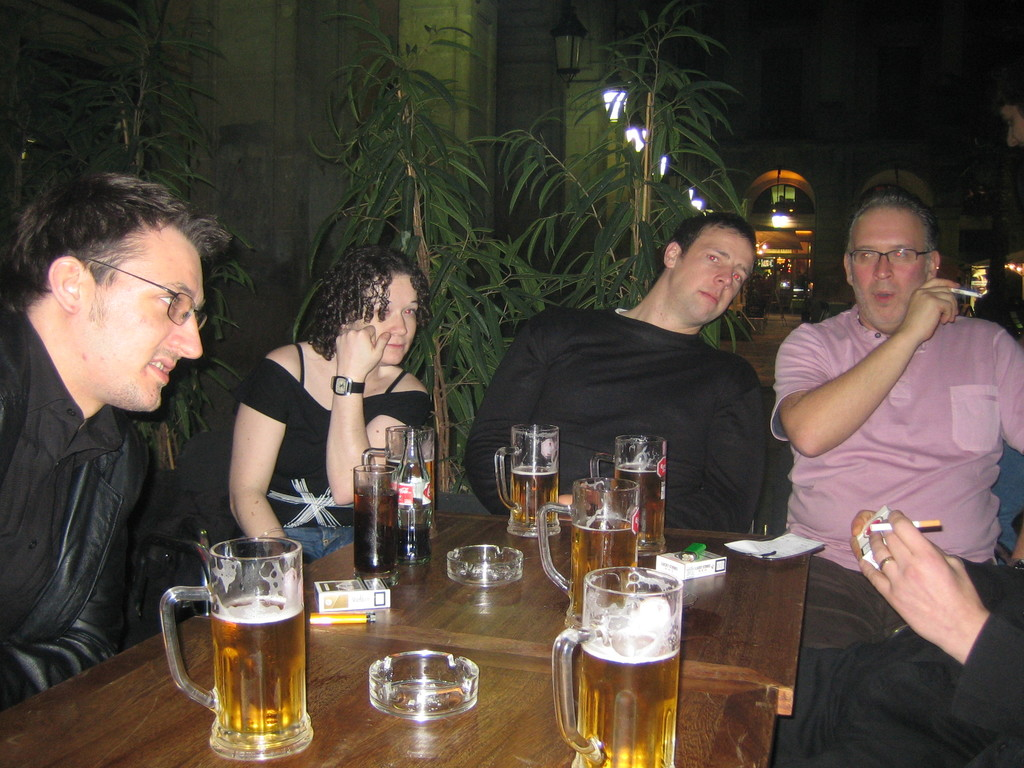Beer: (207, 595, 302, 753), (569, 633, 672, 767), (569, 514, 640, 628), (615, 462, 662, 555), (387, 460, 435, 538), (508, 465, 559, 530)
